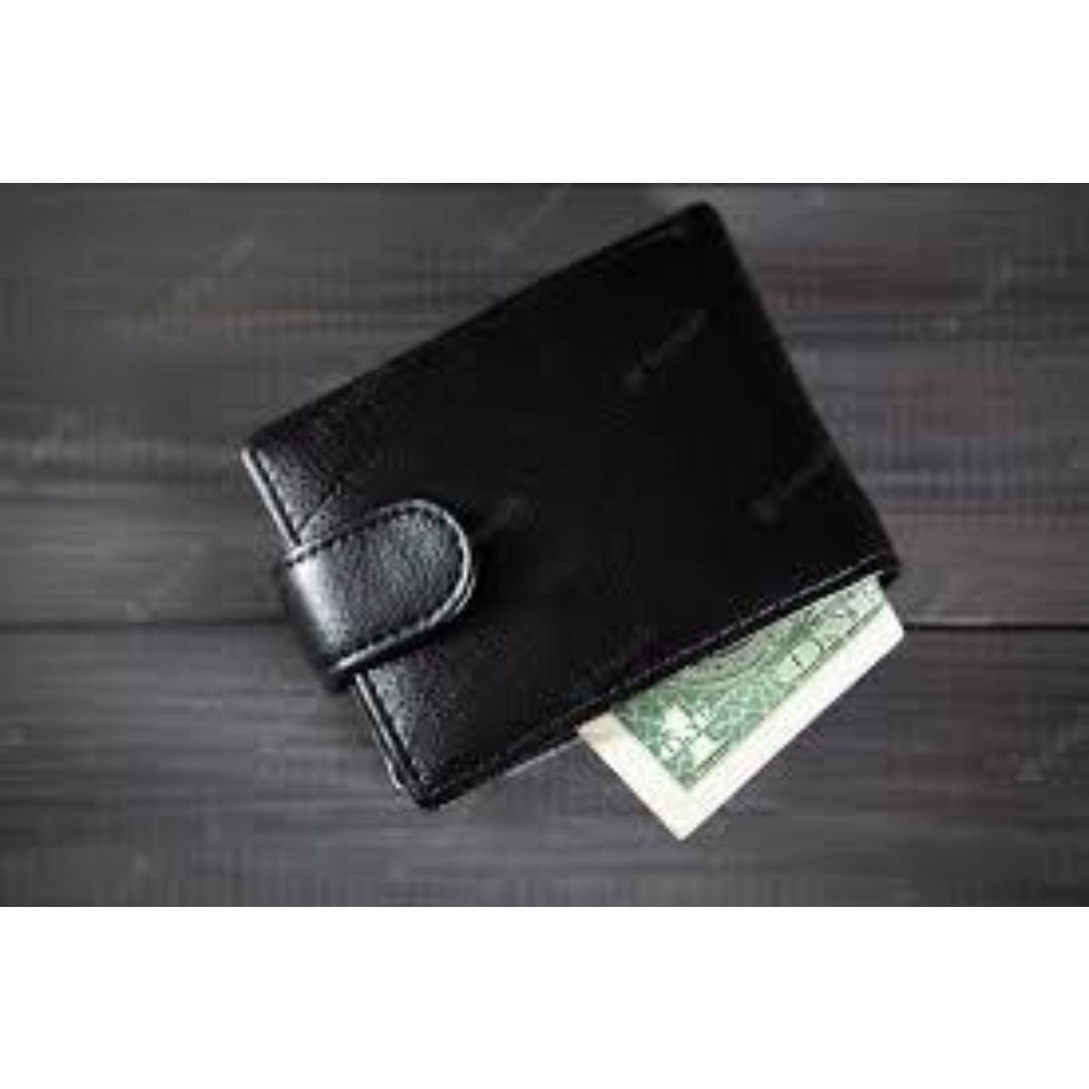wallet: (206, 197, 997, 841)
